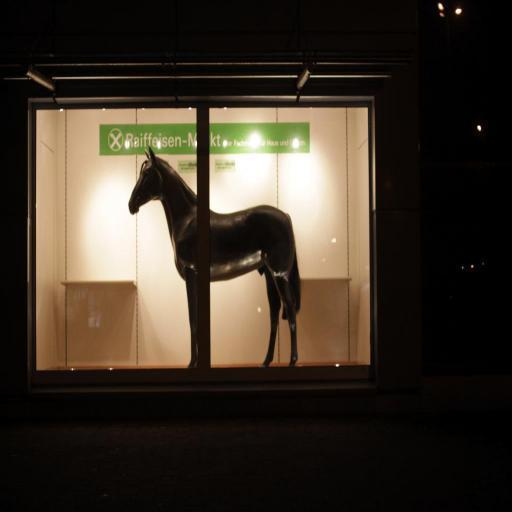horse: (126, 146, 304, 374)
